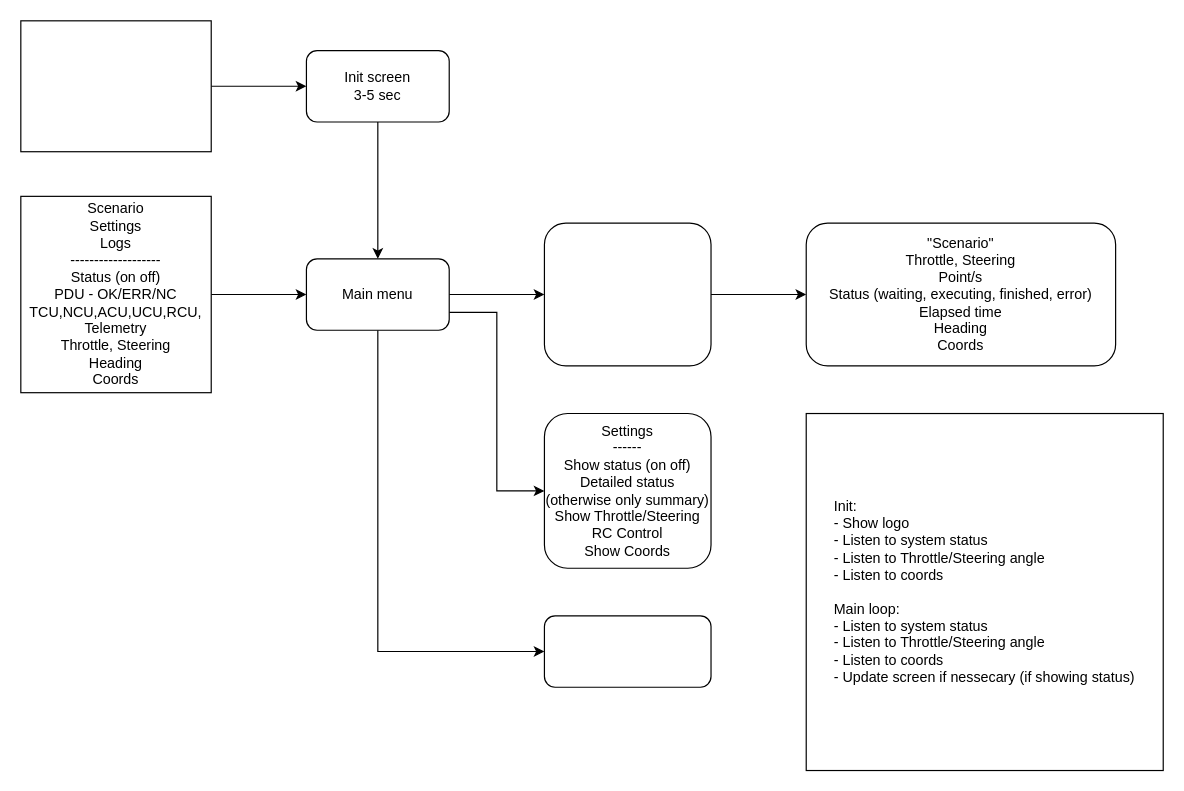
This 1184x791 diagram has some shape labels left out. The shapes that lost their labels are listed below. From the top down, each one's centre as x and y in pixels, then its label:
point 115,86: Autonomous WaveRunner CHALMERS / Chalmers University of Technology
point 627,294: Scenario ------ Leave HB Follow LB Dock LB To HB Dock HB
point 627,651: Logs ------ ??
